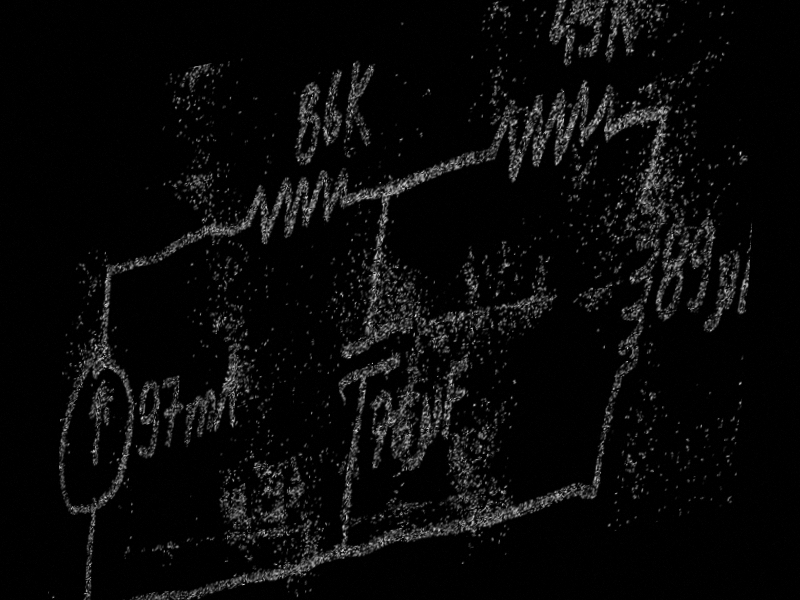4: (544, 0, 585, 75)
6: (388, 372, 420, 463), (319, 64, 349, 149)
7: (361, 382, 398, 474), (156, 367, 187, 454)
8: (649, 215, 696, 330), (291, 77, 326, 173)
9: (677, 215, 722, 321), (132, 372, 164, 465), (572, 0, 611, 72)
A: (212, 342, 244, 435)
F: (438, 350, 472, 439)
H: (732, 206, 753, 319)
k: (340, 51, 381, 164), (601, 0, 648, 68)
m: (182, 387, 217, 445)
u: (701, 246, 743, 336), (409, 383, 445, 474)
